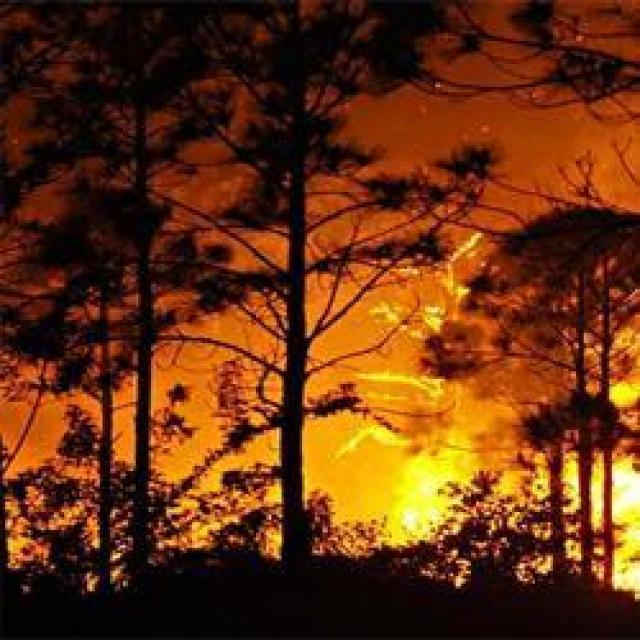Fire: (354, 203, 640, 606)
